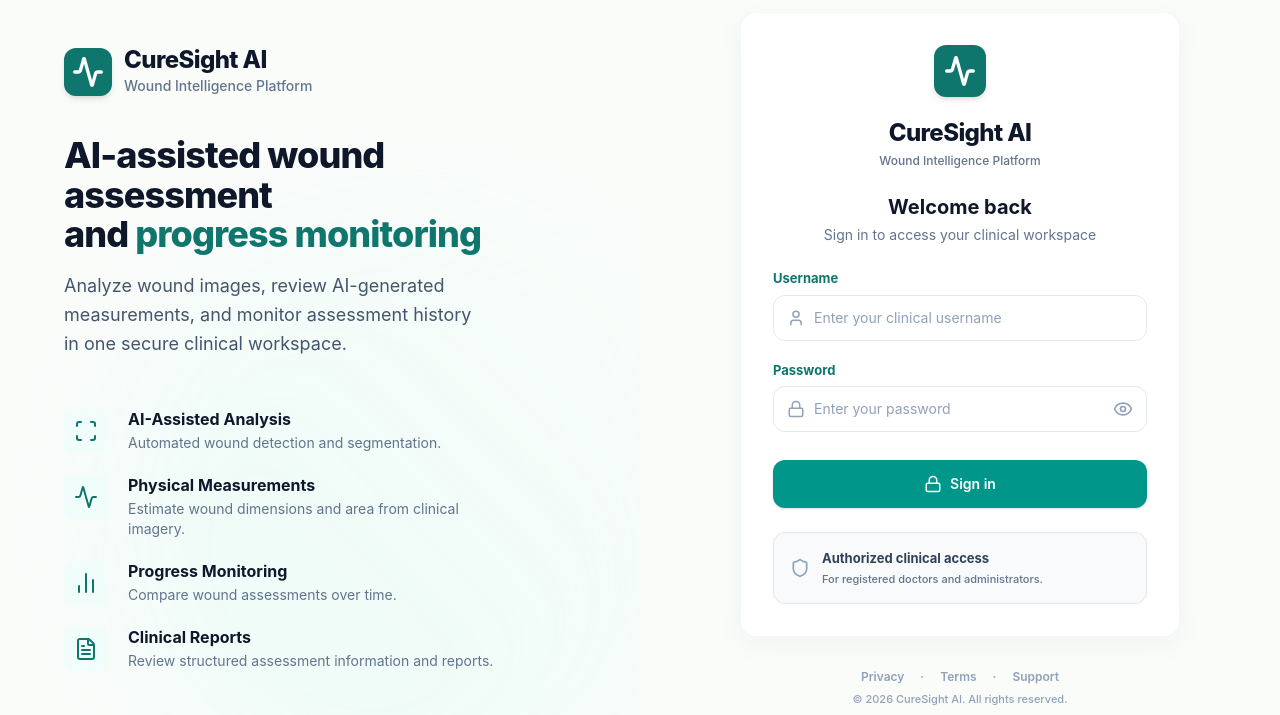
Test: Login Flow & Error Handling › 3. Correctly handles HTTP 403 Forbidden
Type "unauthorized_role" into the field with placeholder "Enter your clinical username" at (960,318), box [773,295,1147,341]
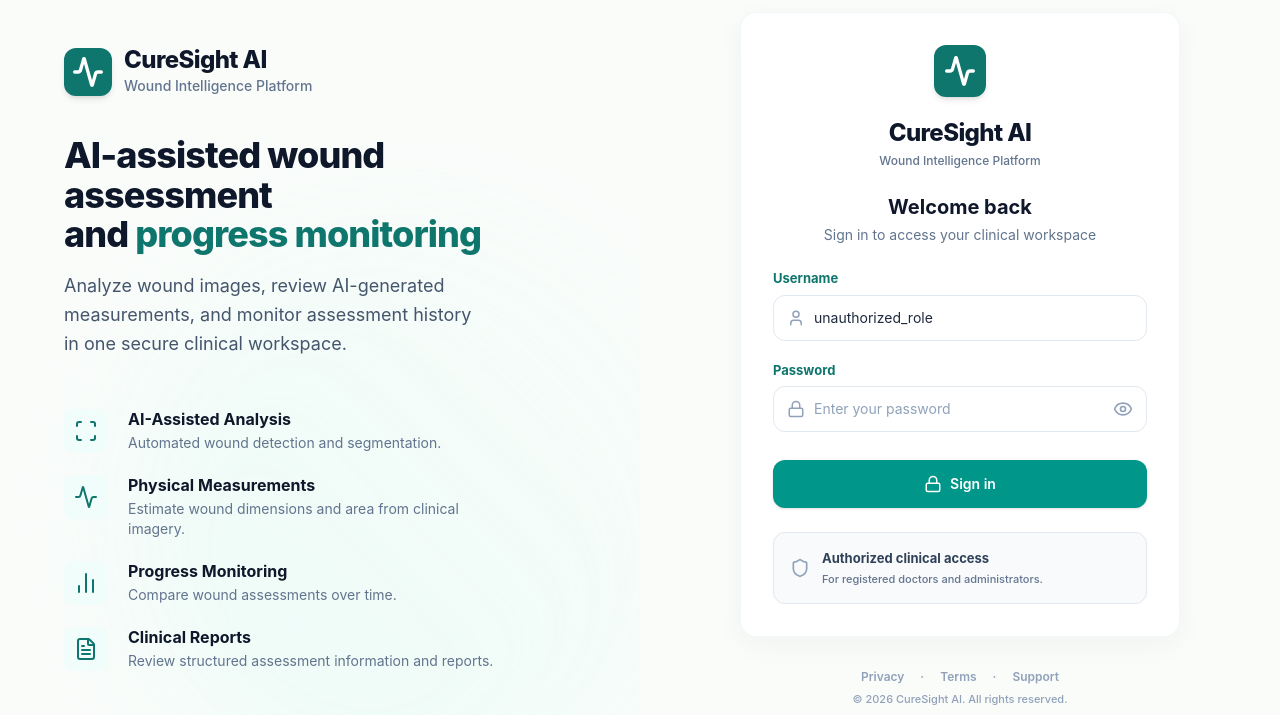
Type "pass" into the password field with placeholder "Enter your password" at (960,409), box [773,386,1147,432]
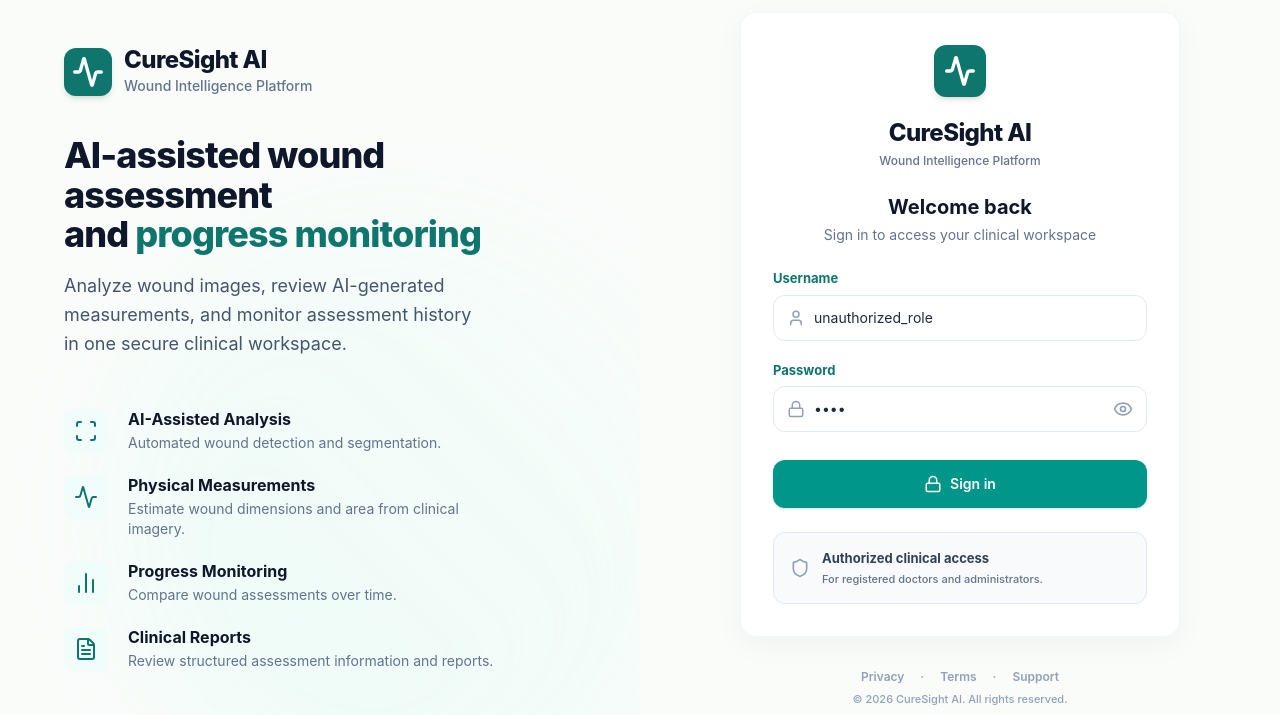
Click the button "Sign in" at (960,484), box [773,460,1147,508]
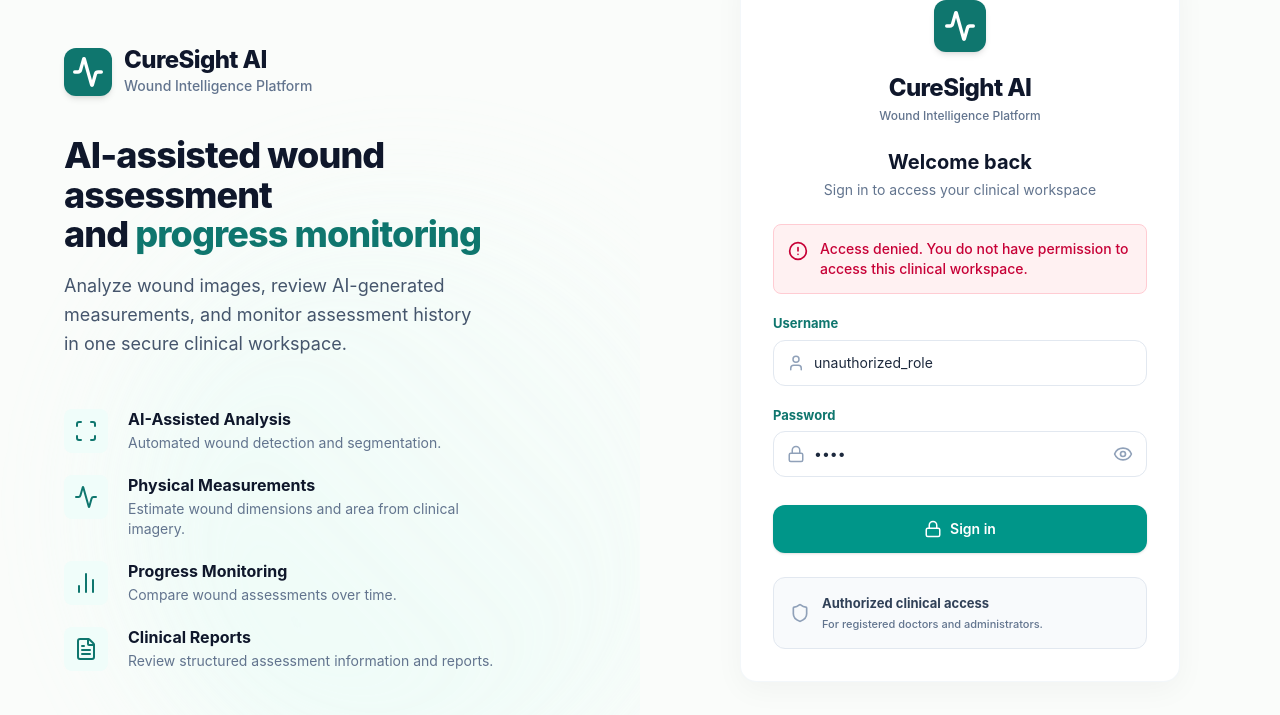
Expected: the text "Access denied" is shown, [820,240,1128,277]
